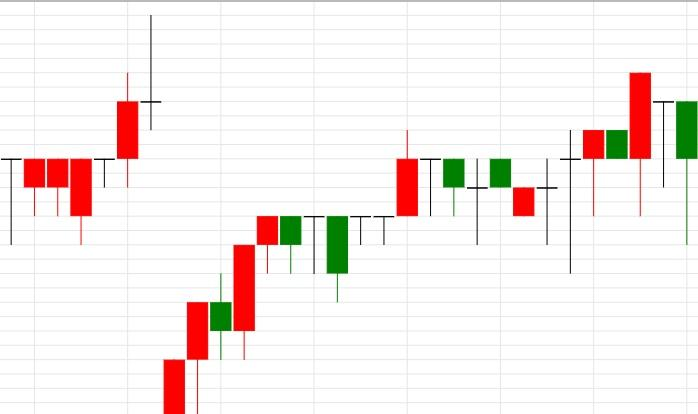bearish_engulfing_fall: (163, 215, 302, 413)
evening_star_fall: (163, 130, 465, 413)
hanging_man_fall: (512, 130, 606, 273)
